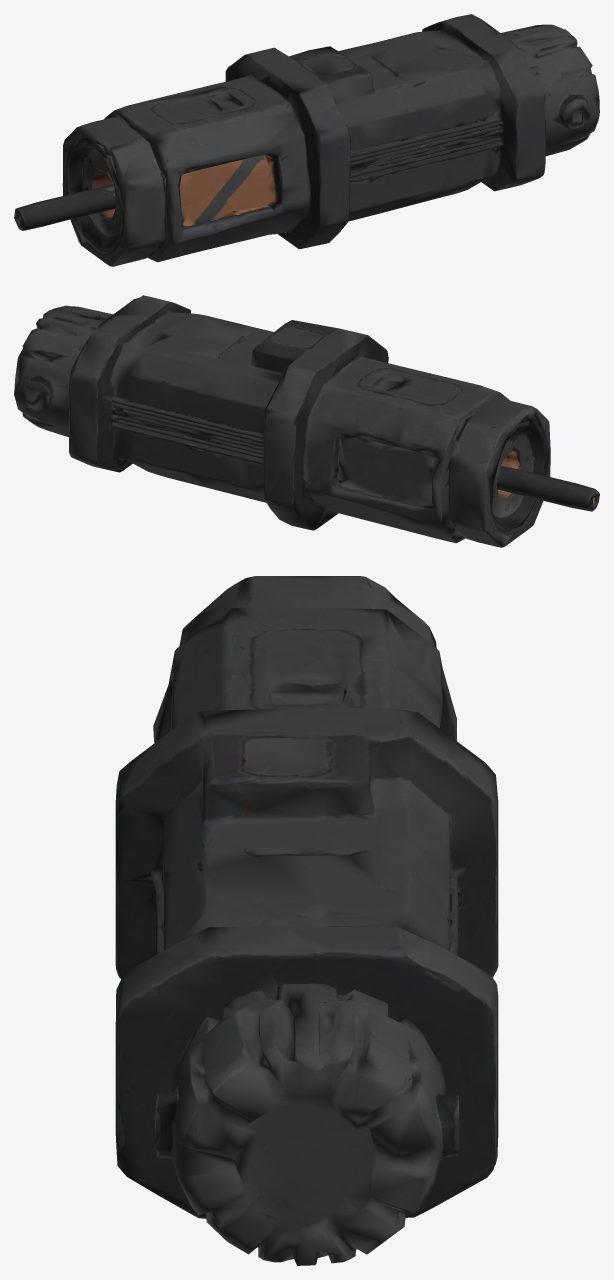
The model's file is bermuda-blue-hole-component.glb.
3 views of the same model, one above another, from view 1: azimuth 30°, elevation 25°; view 2: azimuth 150°, elevation 25°; view 3: azimuth 270°, elevation 25° (orthographic). The views are drawn at different scales.
Size of the model in its own units: 1.9 by 0.5212 by 0.5699.
Materials: 1 (1 with a texture image).
